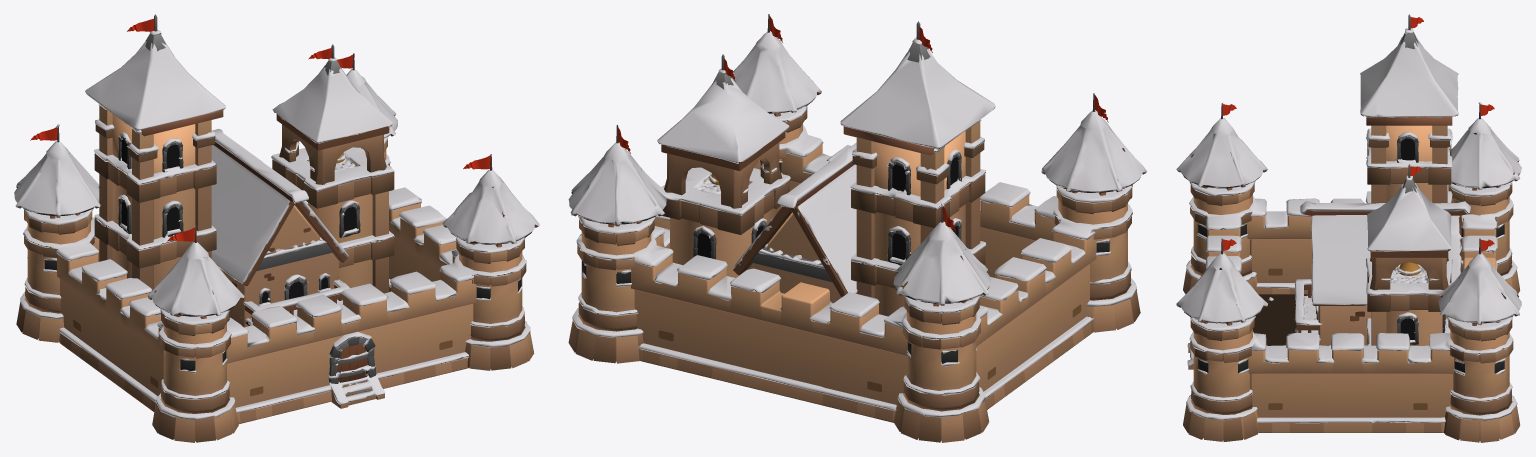
File: MainBigCastleSnowy_1.fbx
3 views of the same model, side by side, from view 1: azimuth 30°, elevation 25°; view 2: azimuth 150°, elevation 25°; view 3: azimuth 270°, elevation 25° (orthographic). The views are drawn at different scales.
Parts seen in each view (by area): view 1: MainBigCastleSnowy_1; view 2: MainBigCastleSnowy_1; view 3: MainBigCastleSnowy_1.
Part boxes in pixels (bbox=[...]): MainBigCastleSnowy_1: bbox=[14, 14, 539, 442]; MainBigCastleSnowy_1: bbox=[568, 14, 1147, 442]; MainBigCastleSnowy_1: bbox=[1176, 14, 1521, 442].
Size of the model in its own units: 1420 by 1163 by 1194.
